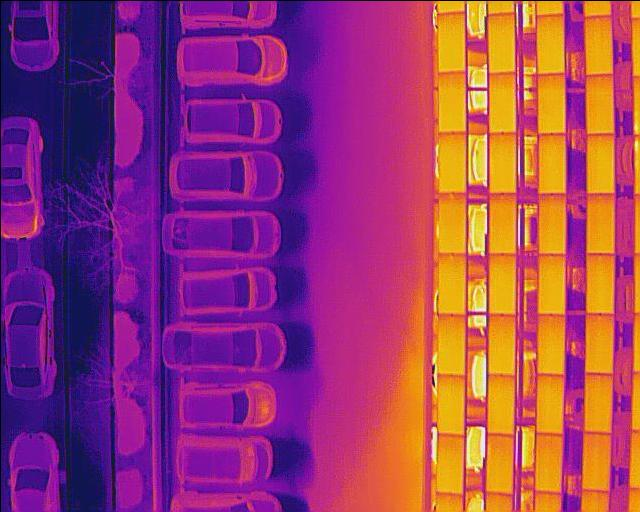No-Anomaly: (534, 373, 564, 432), (585, 251, 614, 312), (584, 312, 613, 373), (585, 193, 614, 252), (536, 133, 564, 193), (536, 312, 564, 372), (437, 10, 464, 72), (486, 375, 514, 434), (537, 252, 564, 313), (537, 72, 564, 133), (438, 191, 465, 252), (488, 314, 515, 375), (585, 134, 613, 192), (584, 372, 610, 434), (582, 434, 610, 491), (485, 434, 512, 493), (585, 73, 612, 132), (489, 72, 516, 131), (488, 253, 515, 312), (438, 133, 465, 192), (488, 133, 515, 192), (534, 432, 561, 491), (438, 72, 464, 133), (438, 313, 464, 374), (537, 194, 564, 252), (488, 12, 514, 72), (437, 374, 463, 434), (584, 15, 611, 72), (489, 193, 515, 252), (437, 434, 463, 493), (537, 12, 563, 71), (439, 254, 464, 315)
